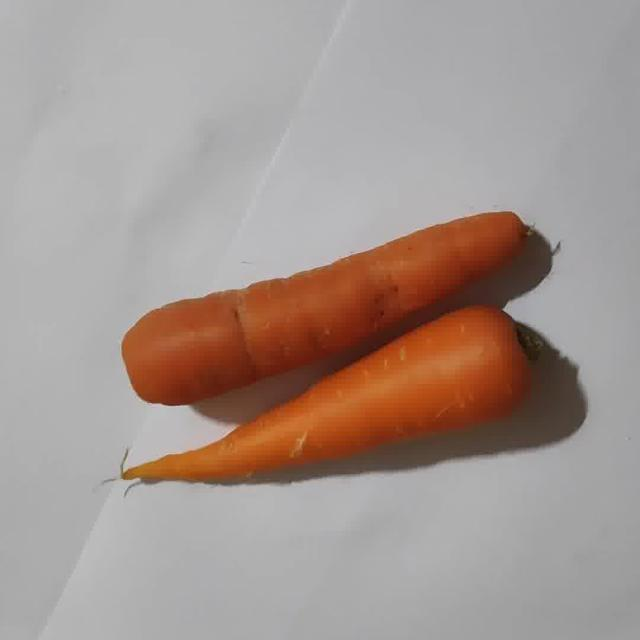Carrot: (122, 212, 543, 405), (123, 308, 533, 484)
